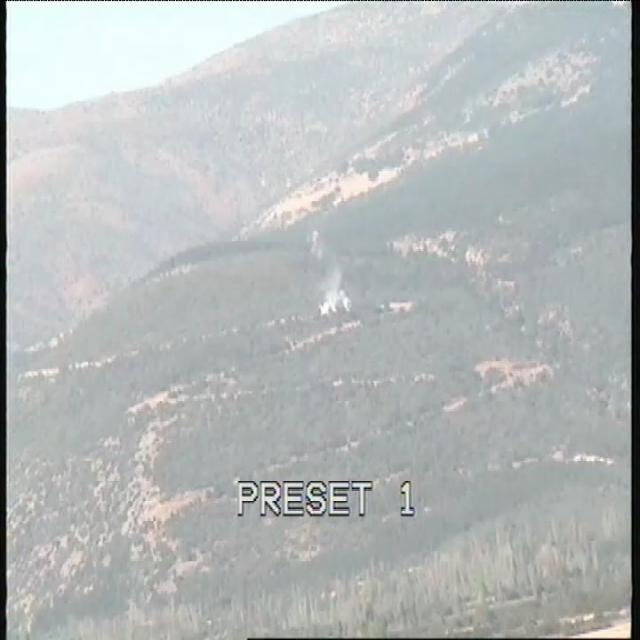smoke: (315, 264, 351, 318)
